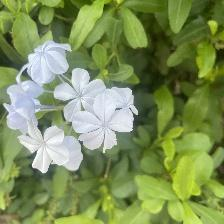chitrak: (74, 93, 133, 155), (52, 68, 110, 120), (20, 123, 71, 173), (27, 37, 74, 87), (2, 81, 47, 130)
